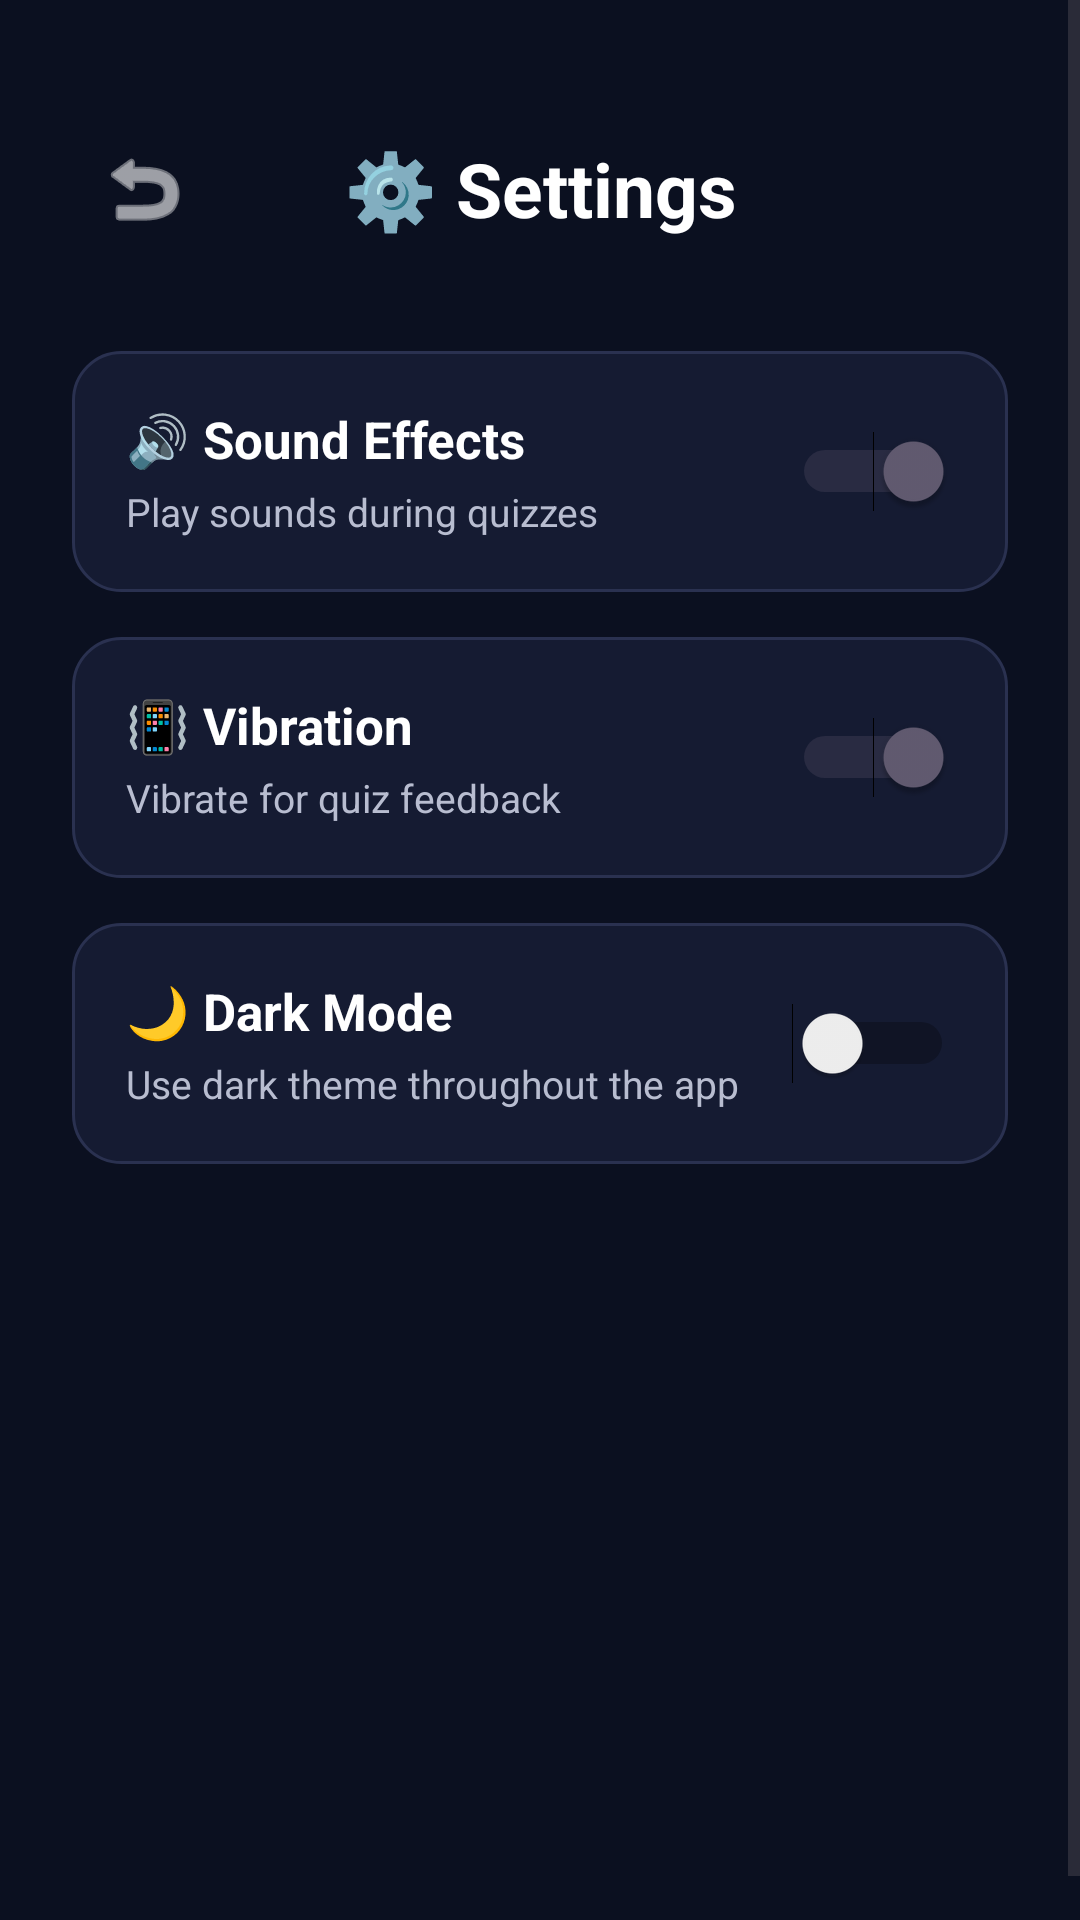

Where icons sit on this 1080×1920 app screen, as (x1,y1,x2,y2):
Back: (111,158,180,221)
